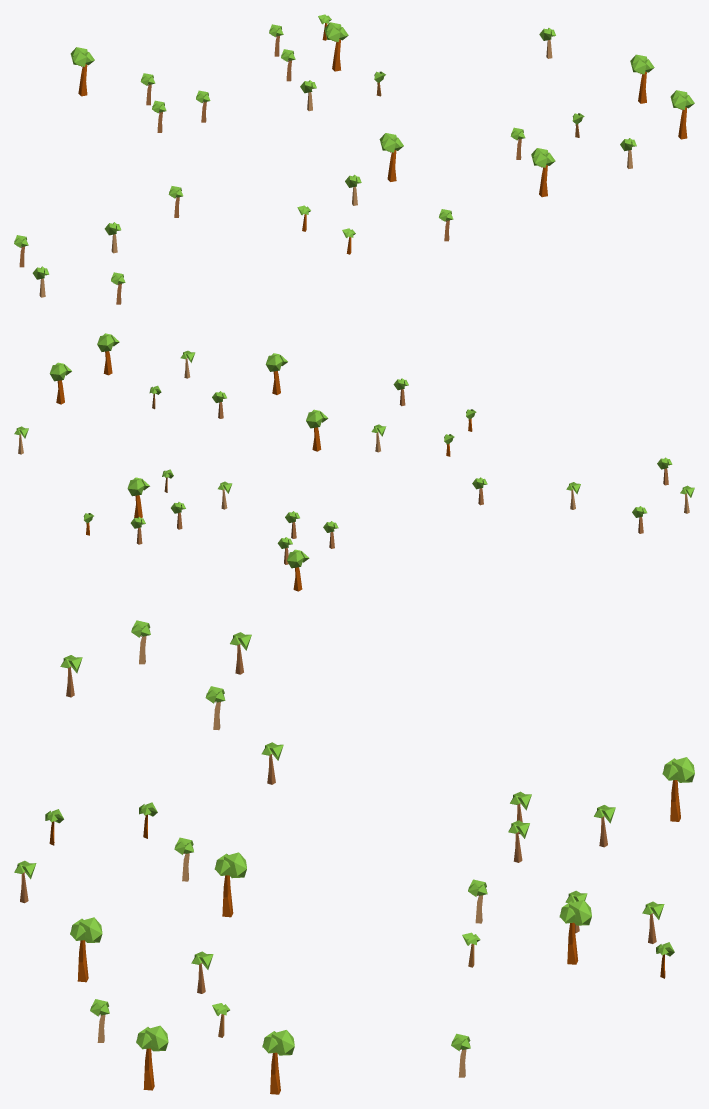
File: trees.glb
3 views of the same model, one above another, from view 1: azimuth 30°, elevation 25°; view 2: azimuth 150°, elevation 25°; view 3: azimuth 270°, elevation 25° (orthographic). The views are drawn at different scales.
Parts seen in each view (by area): view 1: Декор.002; view 2: Декор.002; view 3: Декор.002.
Boxes of the visible parts, x1=… form: Декор.002: x1=14, y1=14, x2=694, y2=304; Декор.002: x1=14, y1=333, x2=694, y2=591; Декор.002: x1=14, y1=620, x2=694, y2=1094.
Size of the model in its own units: 337 by 21.92 by 220.
